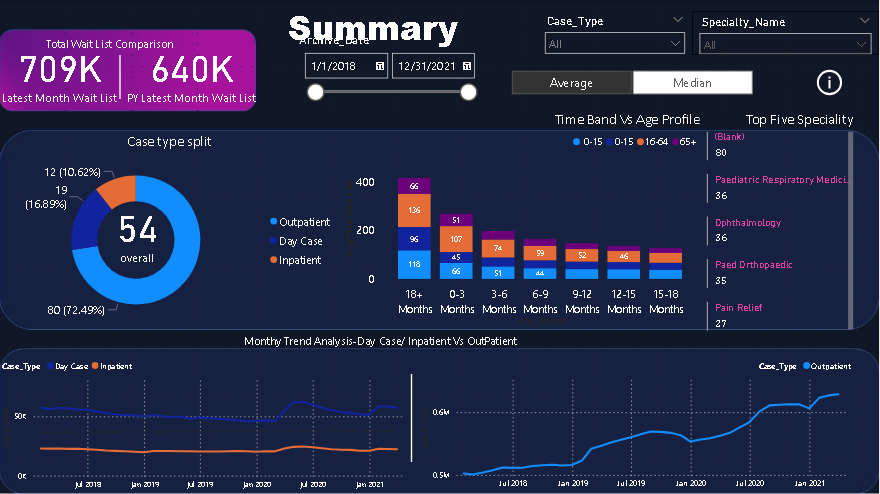

What the dashboard file says about the page in this screenshot:
{"tool":"powerbi","page":{"name":"Summary","canvas":[1280,720],"ordinal":0},"visuals":[{"type":"card","fields":{"Values":["All Data.Latest Month Wait List"]},"box":[0,48,176,112],"z":0},{"type":"card","fields":{"Values":["All Data.PY Latest Month Wait List"]},"box":[176,48,208,112],"z":1000},{"type":"slicer","fields":{"Values":["Calculation Method.Calc Method"]},"box":[720,96,400,48],"z":2000},{"type":"donutChart","title":"Case type split","fields":{"Category":["All Data.Case_Type"],"Y":["All Data.Avg/Med Wait List"]},"box":[0,192,496,288],"z":3000},{"type":"columnChart","title":"Time Band Vs Age Profile","fields":{"Y":["All Data.Avg/Med Wait List"],"Category":["All Data.Time_Bands"],"Series":["All Data.Age_Profile"]},"box":[496,160,528,320],"z":4000},{"type":"multiRowCard","title":"Top Five Speciality","fields":{"Values":["All Data.Avg/Med Wait List","All Data.Specialty_Name"]},"box":[1024,160,224,336],"z":5000},{"type":"card","fields":{"Values":["All Data.NoDataLeft"]},"box":[176,592,240,80],"z":6000},{"type":"lineChart","fields":{"Y":["Sum(All Data.Total)"],"Series":["All Data.Case_Type"],"Category":["All Data.Archive_Date"]},"box":[0,512,608,208],"z":7000},{"type":"card","fields":{"Values":["All Data.NoDataRight"]},"box":[736,592,240,80],"z":8000},{"type":"lineChart","fields":{"Y":["Sum(All Data.Total)"],"Series":["All Data.Case_Type"],"Category":["All Data.Archive_Date"]},"box":[608,512,640,208],"z":9000},{"type":"slicer","title":"Archive_Date","fields":{"Values":["All Data.Archive_Date"]},"box":[432,48,272,112],"z":10000},{"type":"slicer","fields":{"Values":["All Data.Case_Type"]},"box":[784,16,224,64],"z":11000},{"type":"slicer","fields":{"Values":["All Data.Specialty_Name"]},"box":[1008,16,272,64],"z":12000},{"type":"textbox","box":[400,0,288,80],"z":13000},{"type":"card","fields":{"Values":["All Data.Avg/Med Wait List"]},"box":[128,272,144,128],"z":14000},{"type":"shape","box":[16,80,320,64],"z":15000},{"type":"textbox","box":[64,48,304,32],"z":16000},{"type":"shape","box":[448,544,304,128],"z":17000},{"type":"textbox","box":[352,480,448,32],"z":18000},{"type":"actionButton","box":[1184,96,96,48],"z":19000}]}

Visuals, with their boxes in screenshot pixels (x1, y1, x2, y2), scaled from the page's 1280x720 canvas onto the 880x494 screenshot:
card - All Data.Latest Month Wait List: (0, 33, 121, 110)
card - All Data.PY Latest Month Wait List: (121, 33, 264, 110)
slicer - Calculation Method.Calc Method: (495, 66, 770, 99)
"Case type split" donutChart: (0, 132, 341, 329)
"Time Band Vs Age Profile" columnChart: (341, 110, 704, 329)
"Top Five Speciality" multiRowCard: (704, 110, 858, 340)
card - All Data.NoDataLeft: (121, 406, 286, 461)
lineChart - Sum(All Data.Total) x All Data.Case_Type: (0, 351, 418, 493)
card - All Data.NoDataRight: (506, 406, 671, 461)
lineChart - Sum(All Data.Total) x All Data.Case_Type: (418, 351, 858, 493)
"Archive_Date" slicer: (297, 33, 484, 110)
slicer - All Data.Case_Type: (539, 11, 693, 55)
slicer - All Data.Specialty_Name: (693, 11, 879, 55)
textbox: (275, 0, 473, 55)
card - All Data.Avg/Med Wait List: (88, 187, 187, 274)
shape: (11, 55, 231, 99)
textbox: (44, 33, 253, 55)
shape: (308, 373, 517, 461)
textbox: (242, 329, 550, 351)
actionButton: (814, 66, 879, 99)
